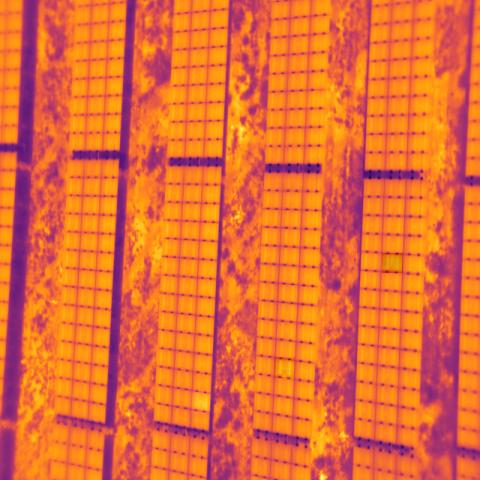fault: (191, 390, 211, 414), (274, 357, 295, 378), (382, 253, 403, 273)
